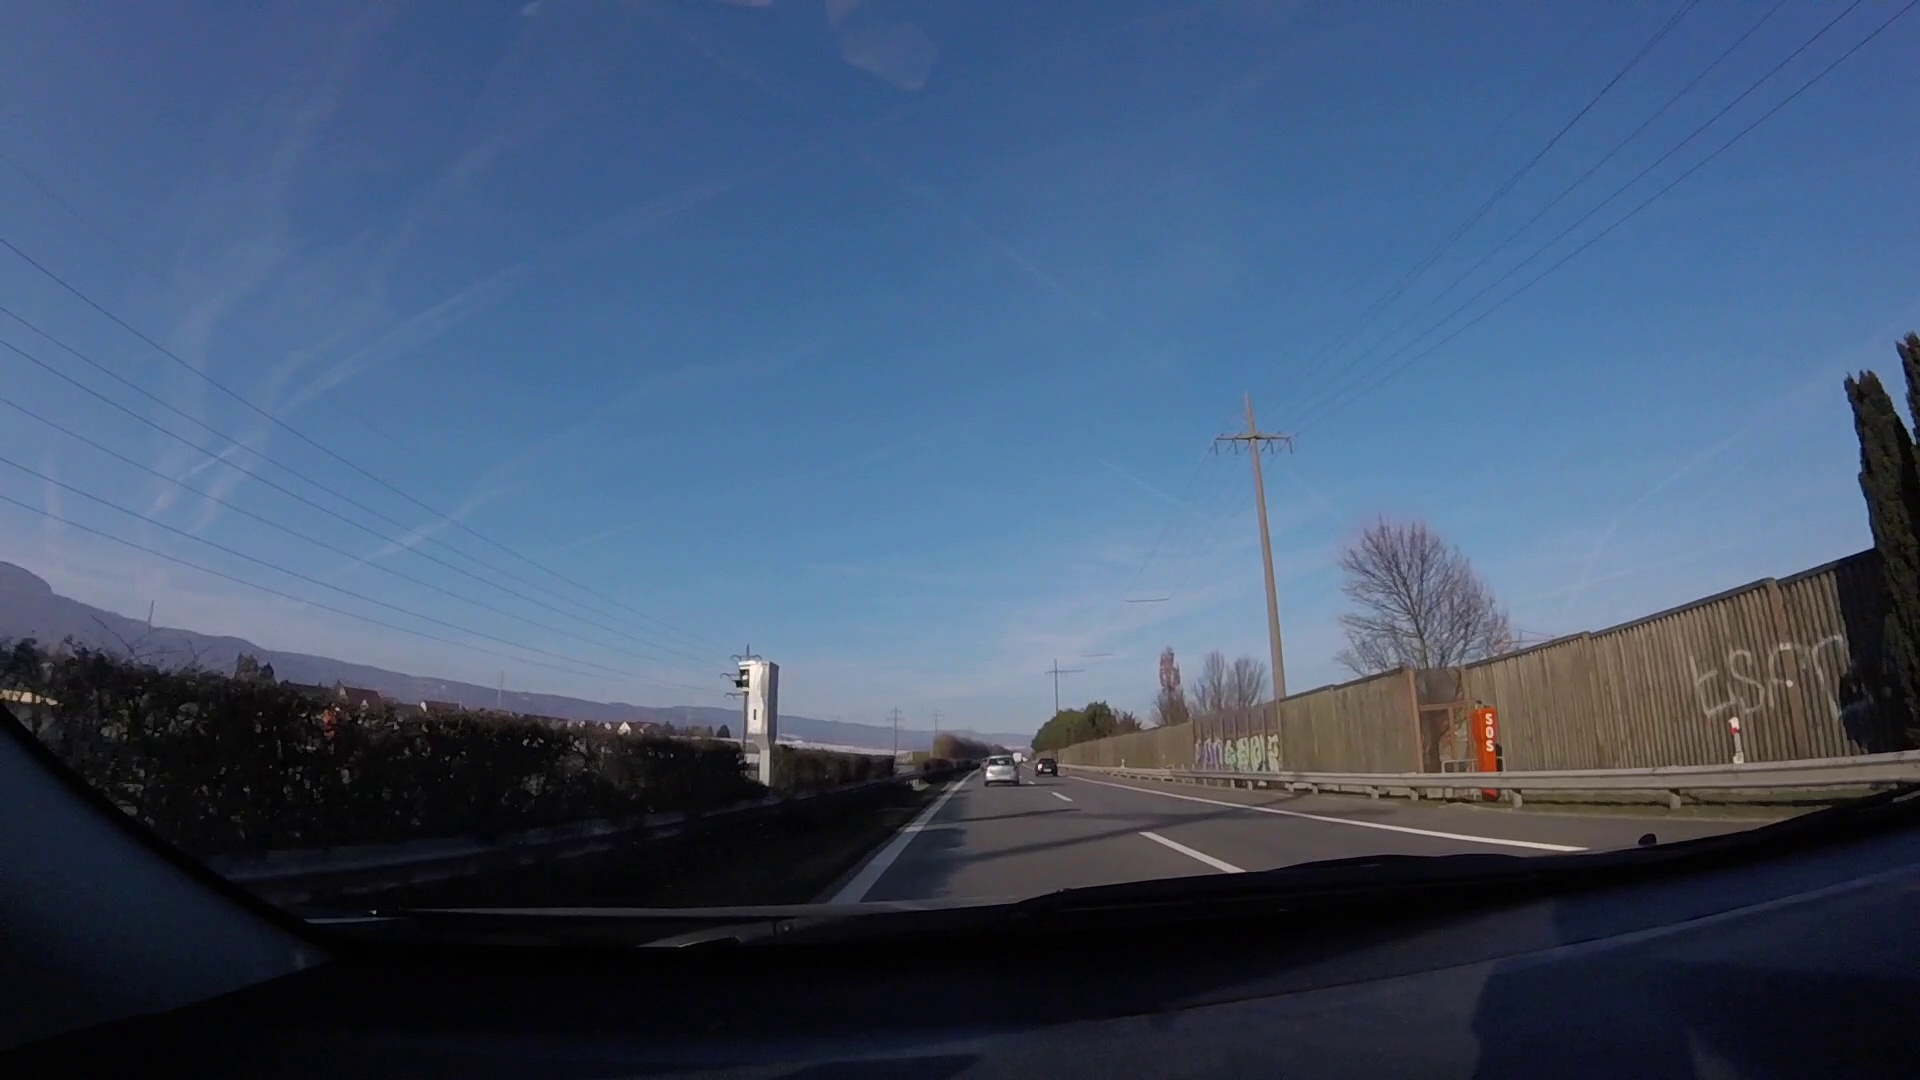radar: (735, 659, 781, 795)
